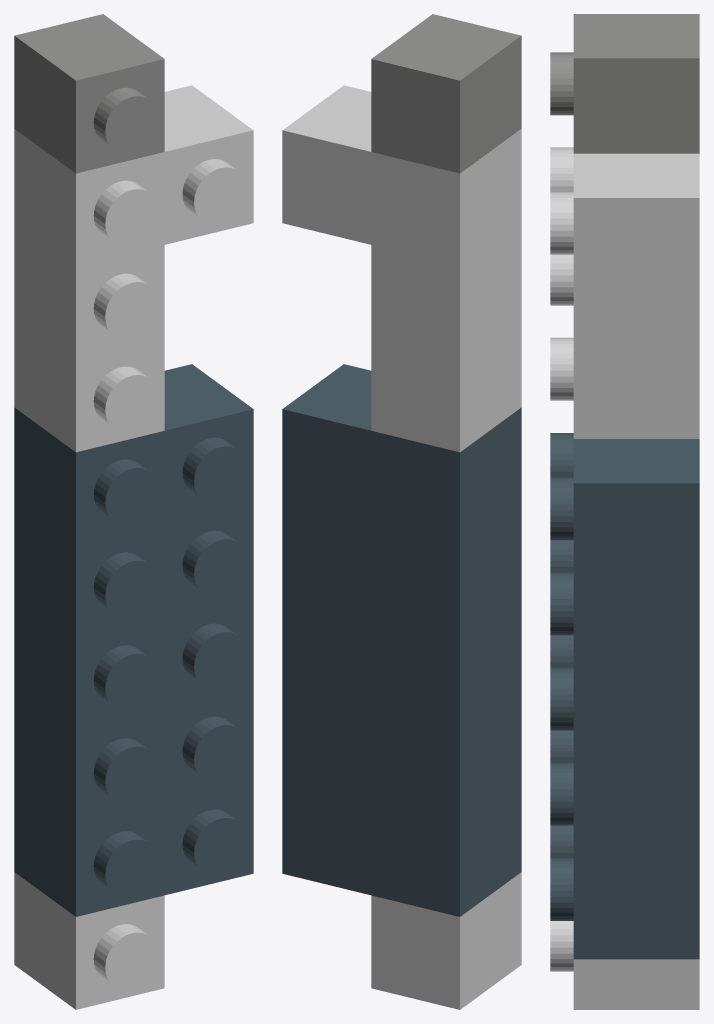
File: current.glb
The picture shows the model from 3 angles, left to right: view 1: azimuth 30°, elevation 25°; view 2: azimuth 150°, elevation 25°; view 3: azimuth 270°, elevation 25°; orthographic projection. The views are drawn at different scales.
Parts seen in each view (by area): view 1: world; view 2: world; view 3: world.
Part boxes in pixels (bbox=[...]): world: bbox=[14, 14, 253, 1009]; world: bbox=[282, 14, 521, 1009]; world: bbox=[550, 14, 699, 1009].
Size of the model in its own units: 16 by 80 by 11.4.
